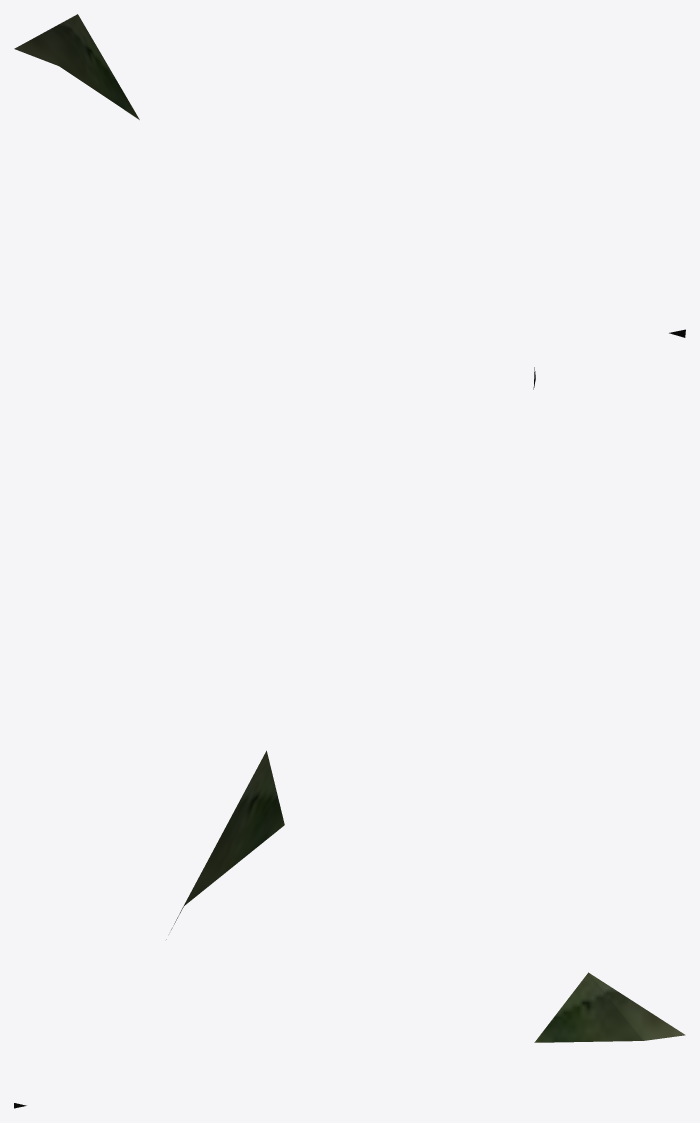
The picture shows the model from 3 angles, top to bottom: view 1: azimuth 30°, elevation 25°; view 2: azimuth 150°, elevation 25°; view 3: azimuth 270°, elevation 25°; orthographic projection. The views are drawn at different scales.
Bounding box in the file's own units: 3.74 × 1.44 × 14.2.
1 material, 1 textured.
